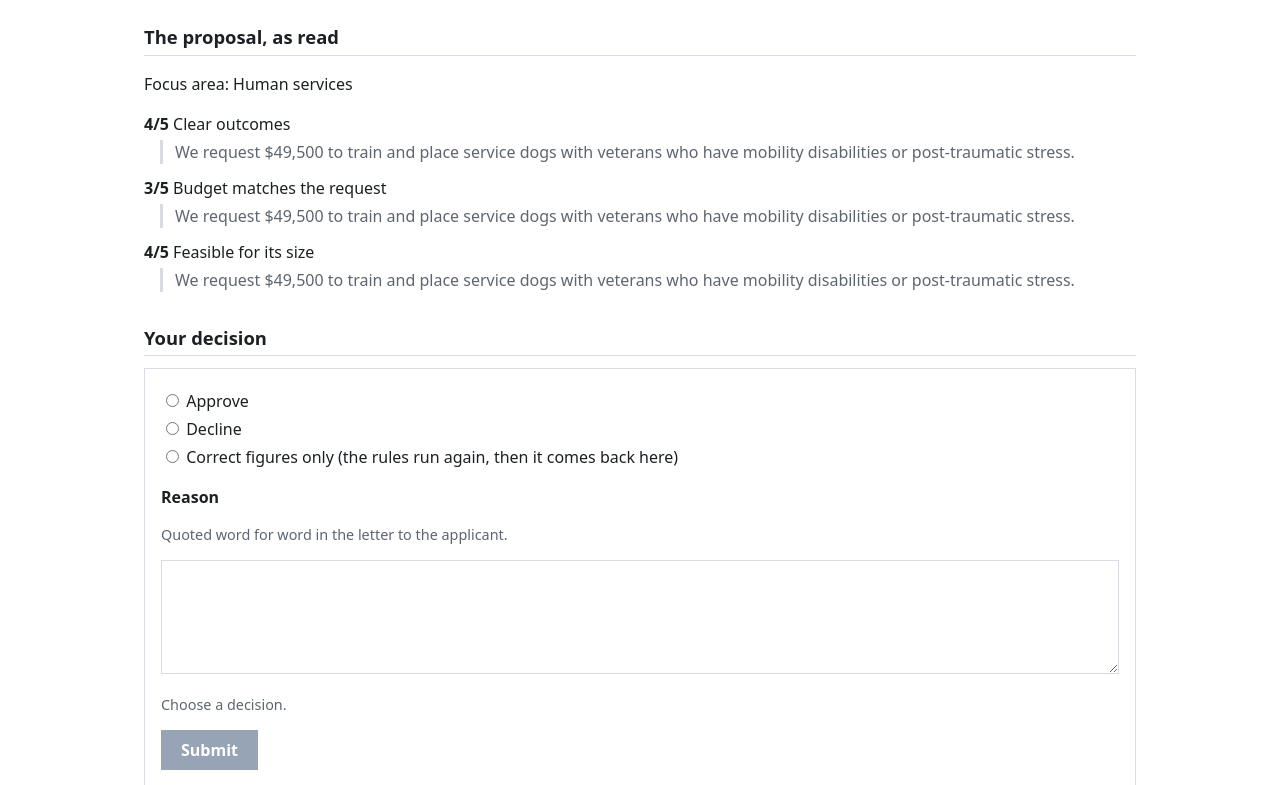
it: a decision someone else got to first is explained, and the form stays
This screenshot has width=1280, height=785.
(page scrolled)
Click the radio button labelled "Approve": x=172, y=401 top-left (166, 394), bottom-right (179, 407)
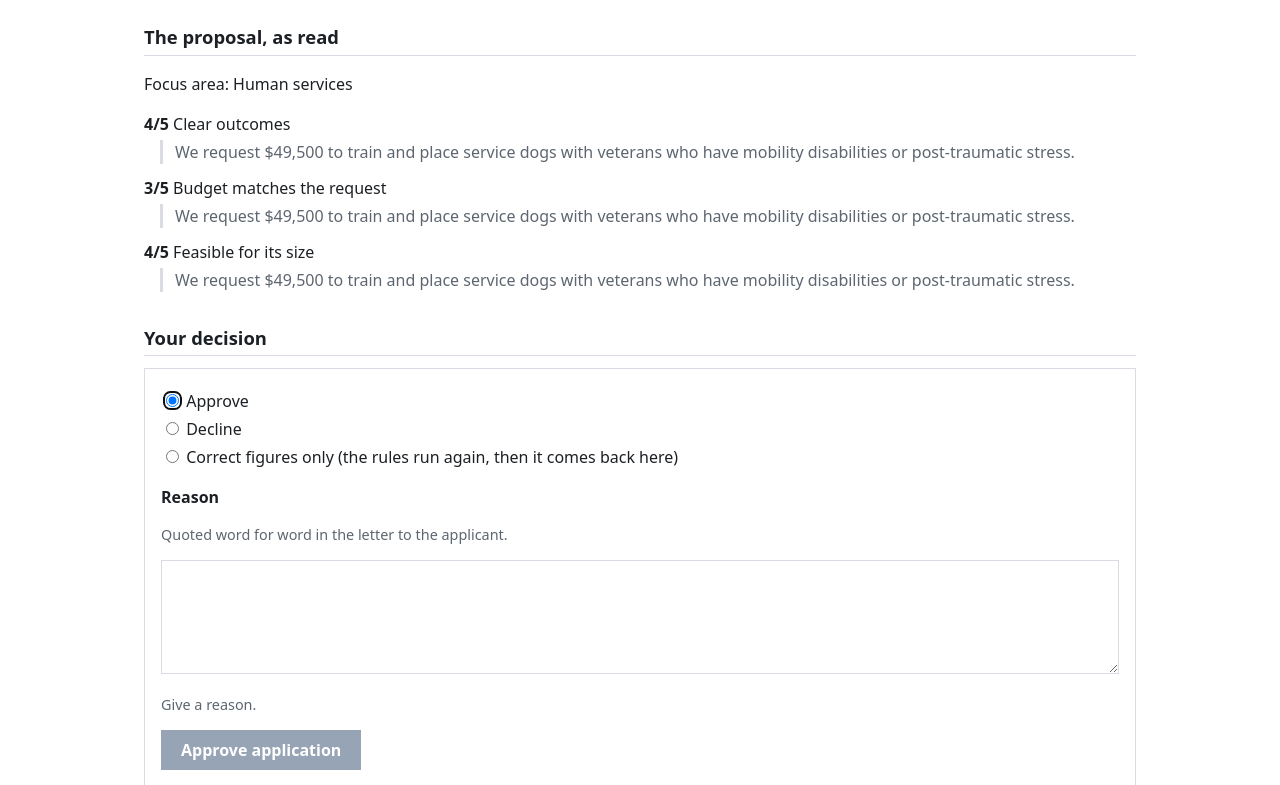
In the text box labelled "Reason": x=640, y=617 top-left (161, 560), bottom-right (1119, 674), type "Fine."
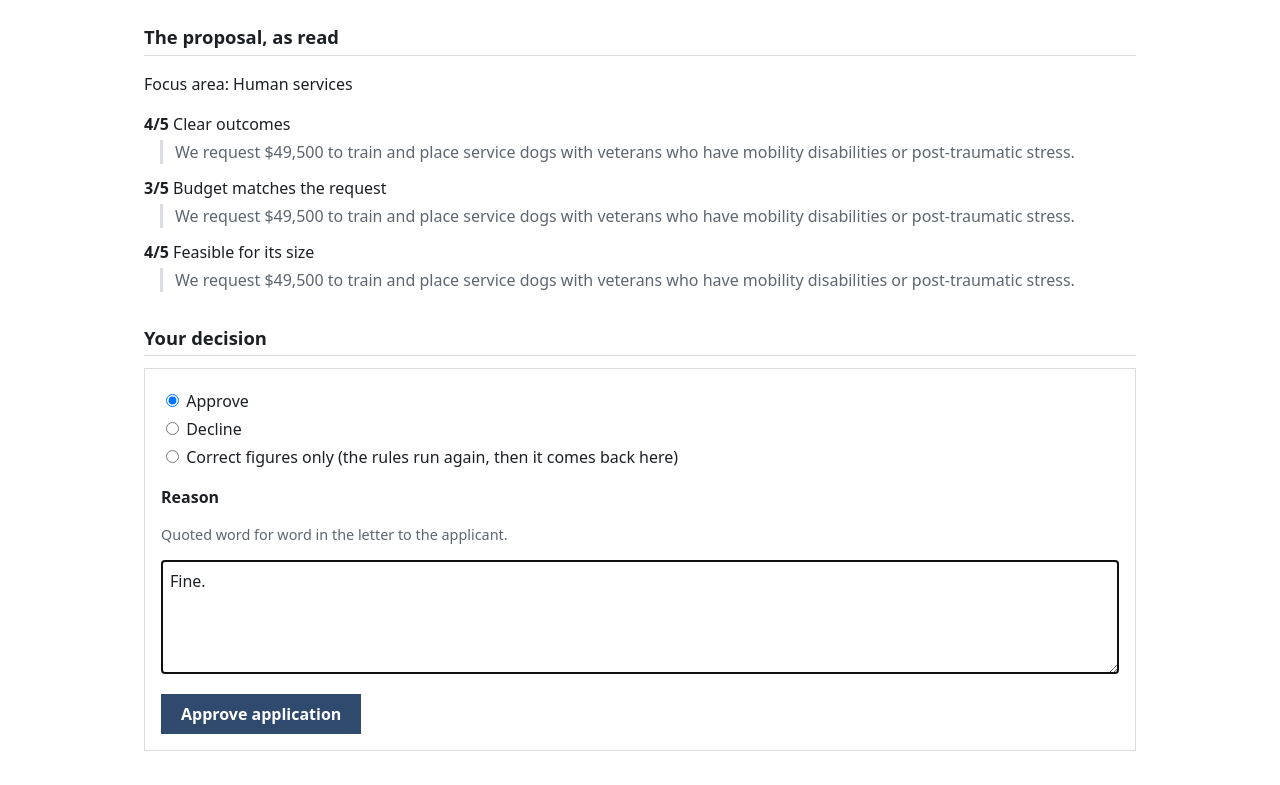
Click the button "Approve application": x=261, y=714 top-left (161, 694), bottom-right (361, 734)
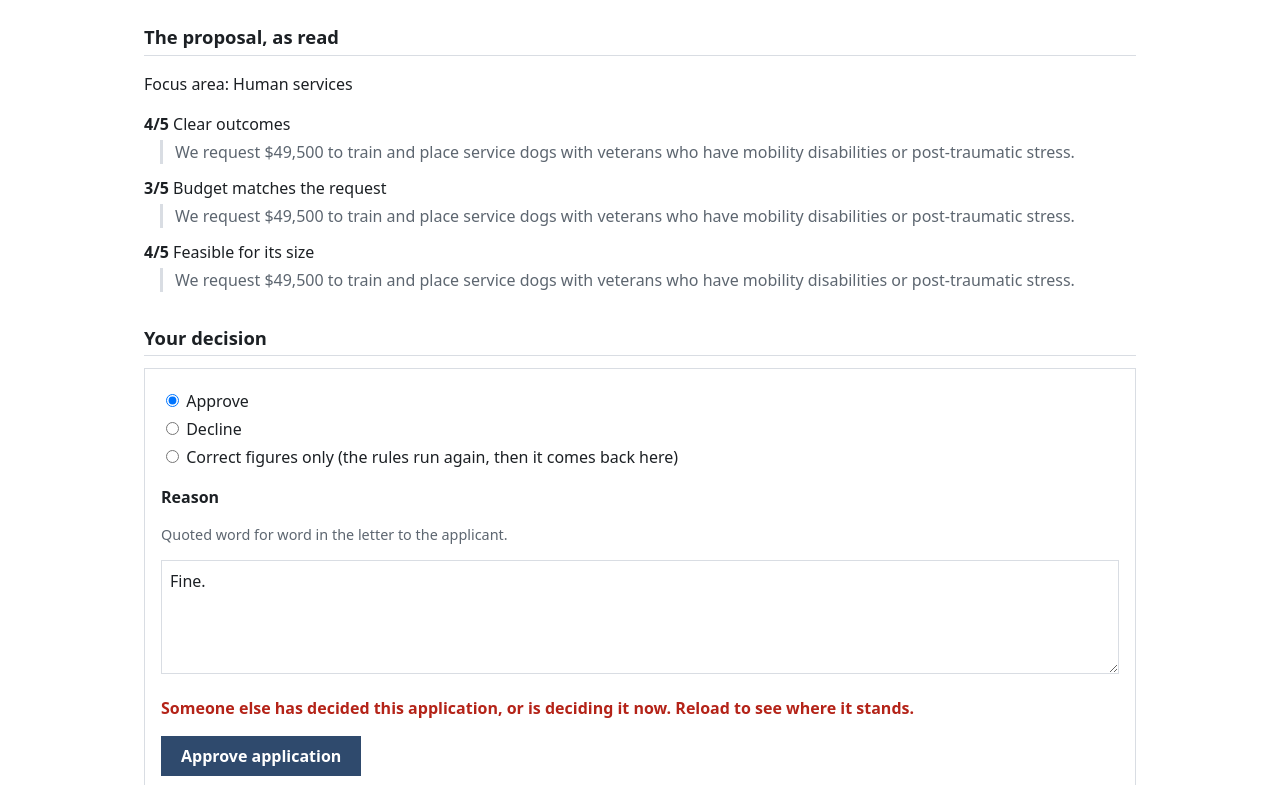
expect the button "Approve application" is enabled: met, box top-left (161, 736), bottom-right (361, 776)
expect the message shows "Someone else has decided this application": met, box top-left (161, 697), bottom-right (914, 719)
